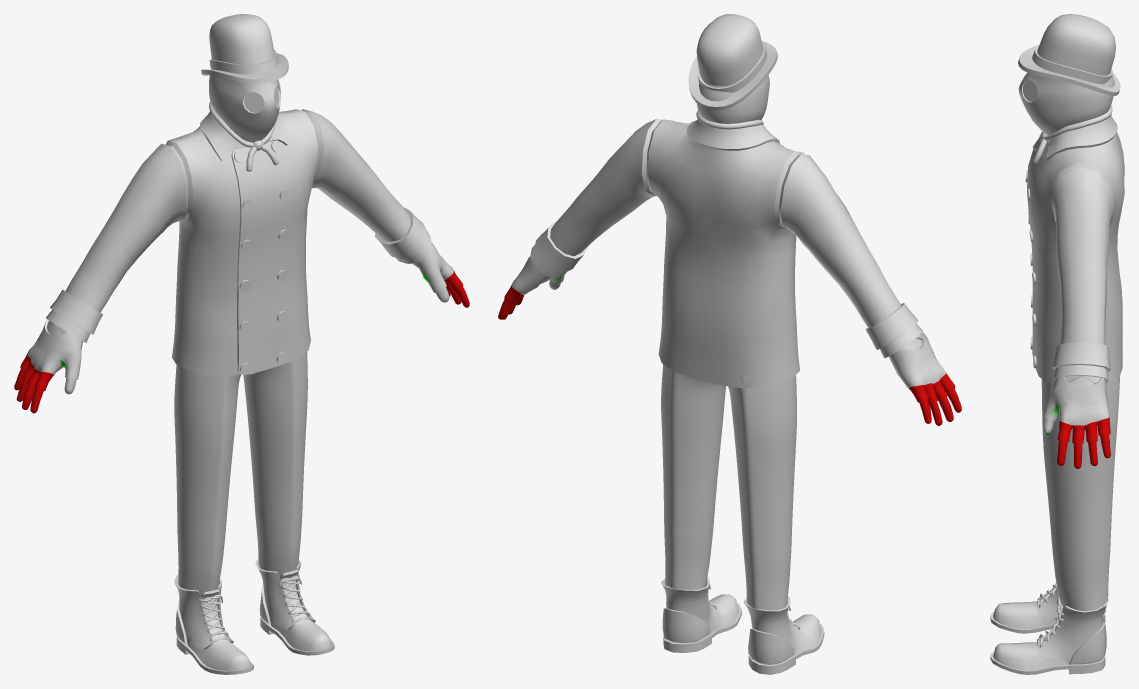
The model's file is NPC_Bandit.fbx.
3 views of the same model, side by side, from view 1: azimuth 30°, elevation 25°; view 2: azimuth 150°, elevation 25°; view 3: azimuth 270°, elevation 25° (orthographic).
Visible parts, largest first — view 1: Bandit; view 2: Bandit; view 3: Bandit.
Boxes of the visible parts, box(x1,y1,x2,y2) form: Bandit: box(14, 14, 469, 674); Bandit: box(498, 14, 961, 674); Bandit: box(990, 14, 1124, 674).
Size of the model in its own units: 135 by 182 by 35.51.
